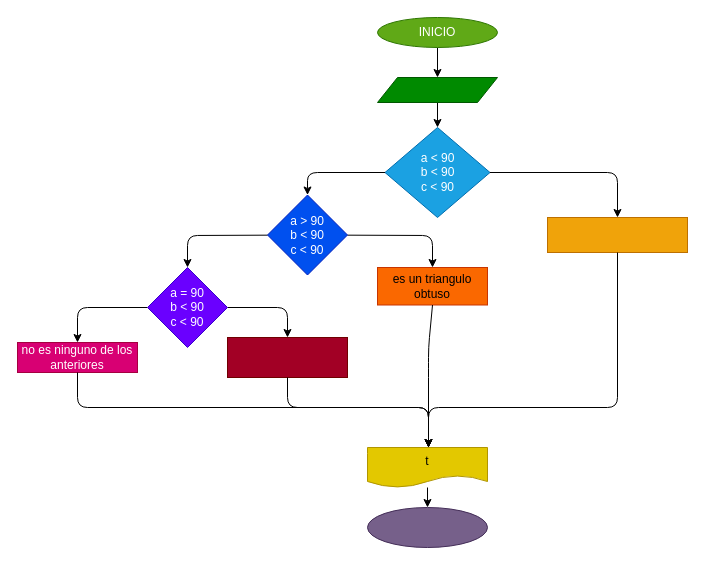
Image size: 705x565. Some labels were removed from this diagram. Each missing label, with the centre of its shape:
a,b,c: (437,89)
es triungulo rectangulo: (287,357)
es un triangulo agudo: (617,234)
FIN: (427,527)
